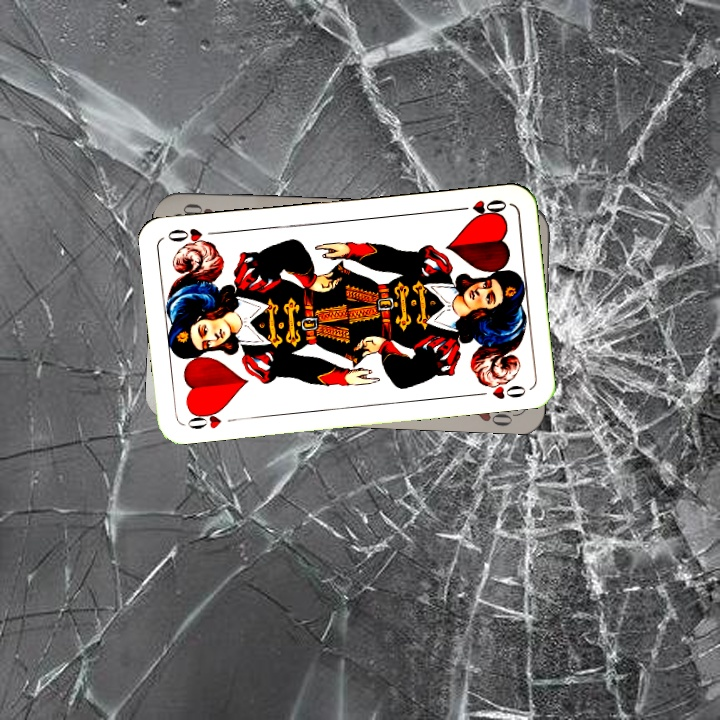HO: (451, 195, 510, 219), (183, 405, 226, 432)
